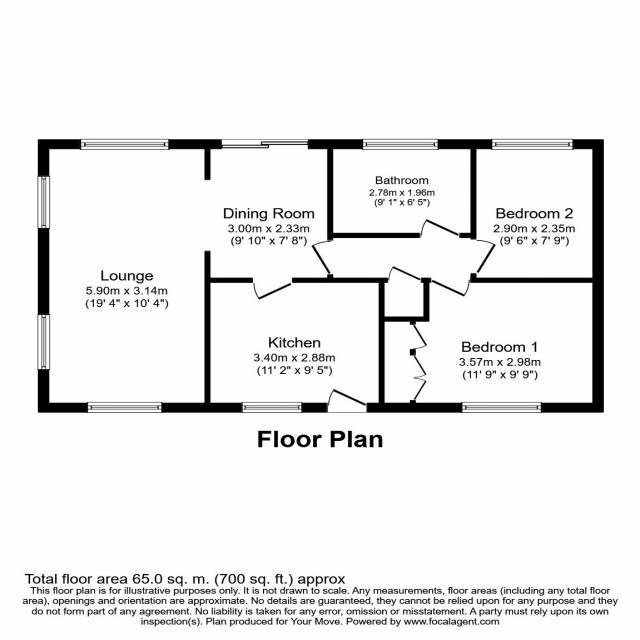DOOR: (249, 276, 295, 301), (325, 387, 369, 412), (470, 238, 498, 274), (309, 238, 334, 276), (418, 217, 461, 238), (430, 277, 471, 298)
ROOM: (37, 139, 335, 413), (378, 277, 605, 413), (204, 277, 385, 413), (470, 139, 604, 283)
SLIDING DOOR: (220, 139, 309, 150)
WINDOW: (79, 138, 170, 151), (490, 138, 574, 151), (461, 401, 542, 414), (361, 138, 440, 151), (86, 401, 163, 414), (36, 314, 51, 371), (36, 175, 51, 230), (241, 401, 303, 414)
